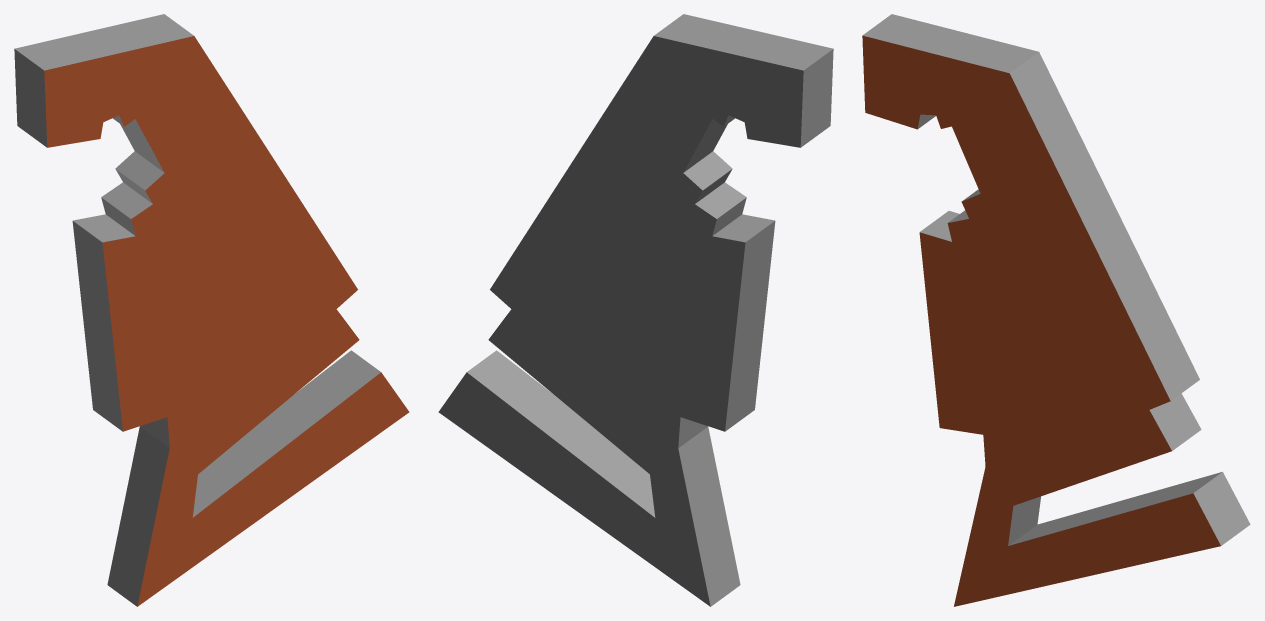
File: construction_5536_assumed_A_Casa_h6m.obj
3 views of the same model, side by side, from view 1: azimuth 30°, elevation 25°; view 2: azimuth 150°, elevation 25°; view 3: azimuth 330°, elevation 25° (orthographic).
Parts seen in each view (by area): view 1: construction_5536_assumed_A_Casa; view 2: construction_5536_assumed_A_Casa; view 3: construction_5536_assumed_A_Casa.
Boxes of the visible parts, bbox=[...] form: construction_5536_assumed_A_Casa: bbox=[14, 14, 409, 606]; construction_5536_assumed_A_Casa: bbox=[438, 14, 833, 606]; construction_5536_assumed_A_Casa: bbox=[862, 14, 1250, 606].
Size of the model in its own units: 42.23 by 61.76 by 6.
